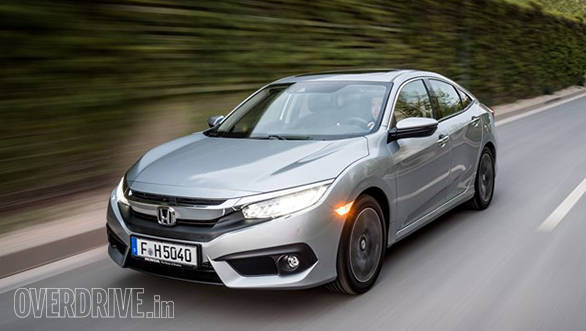car: (103, 67, 499, 295)
